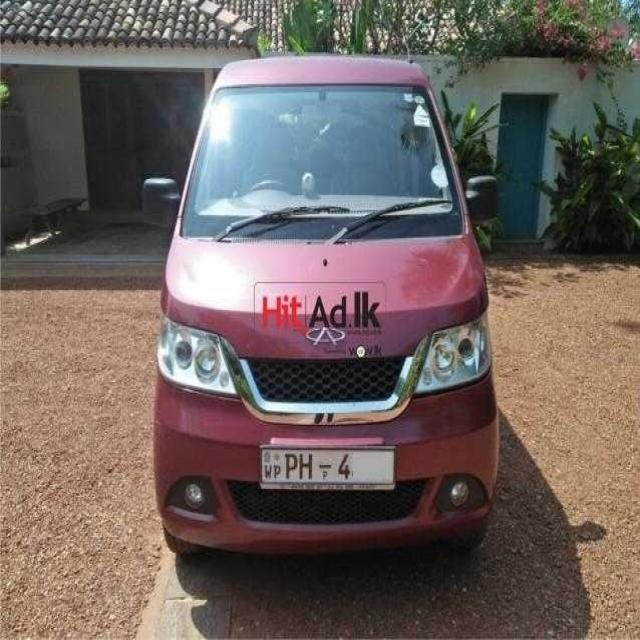Van: (147, 52, 490, 572)
